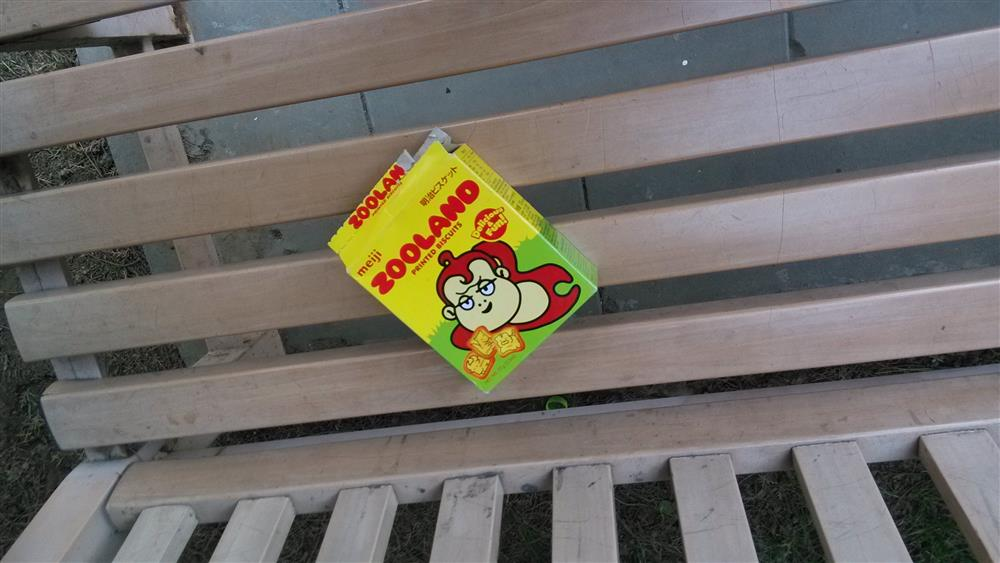zooland: (327, 128, 595, 397)
